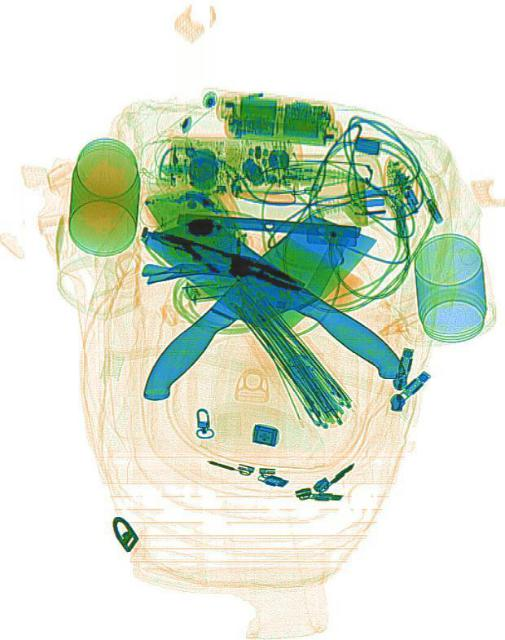Knife: (139, 168, 410, 432), (129, 184, 380, 436)
